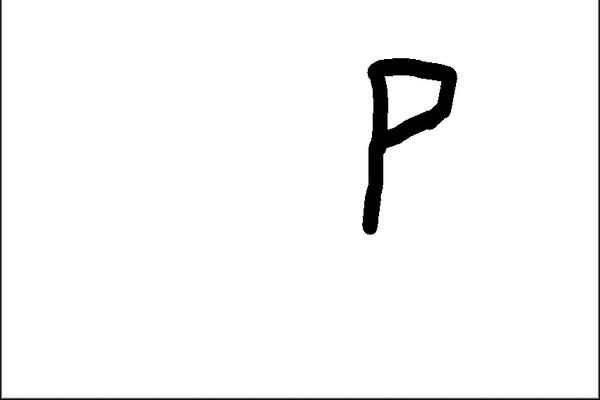P: (344, 42, 471, 246)
